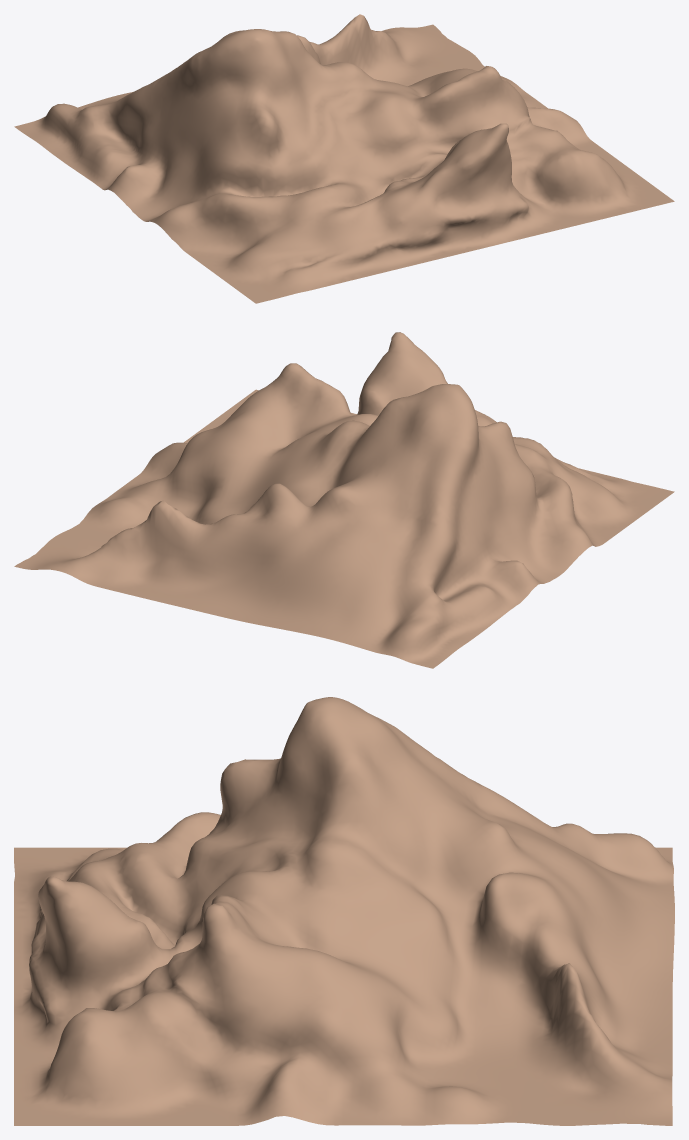
The model's file is Mountain3_Highpoly.fbx.
3 views of the same model, one above another, from view 1: azimuth 30°, elevation 25°; view 2: azimuth 150°, elevation 25°; view 3: azimuth 270°, elevation 25° (orthographic). The views are drawn at different scales.
Visible parts, largest first — view 1: plane_Copy; view 2: plane_Copy; view 3: plane_Copy.
Boxes of the visible parts, left/top/right/bottom form: plane_Copy: left=14, top=14, right=674, bottom=303; plane_Copy: left=14, top=332, right=674, bottom=668; plane_Copy: left=14, top=697, right=674, bottom=1125.
Bounding box in the file's own units: 305 × 111 × 301.
